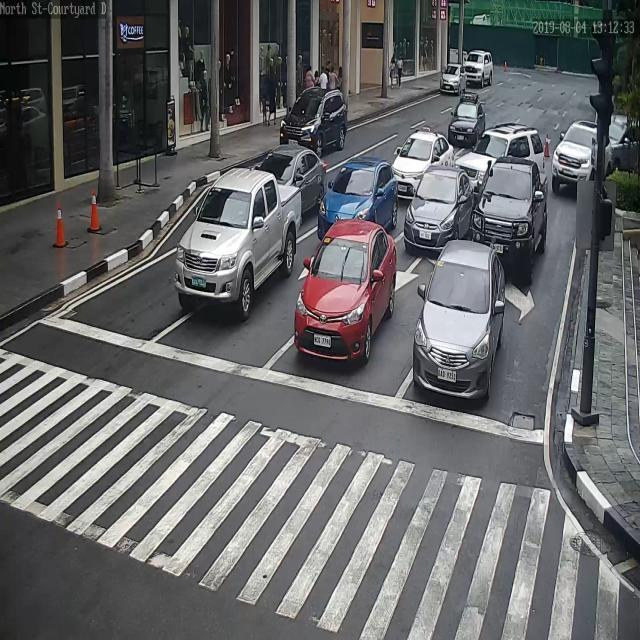car: (177, 165, 298, 315), (293, 219, 397, 366), (413, 239, 504, 400), (470, 153, 551, 279), (251, 145, 327, 240), (400, 164, 474, 253), (319, 158, 398, 235), (460, 126, 552, 187), (280, 87, 350, 154), (391, 131, 454, 195), (550, 123, 611, 187), (448, 97, 487, 149), (610, 116, 640, 173), (466, 48, 496, 85), (440, 63, 466, 93)
